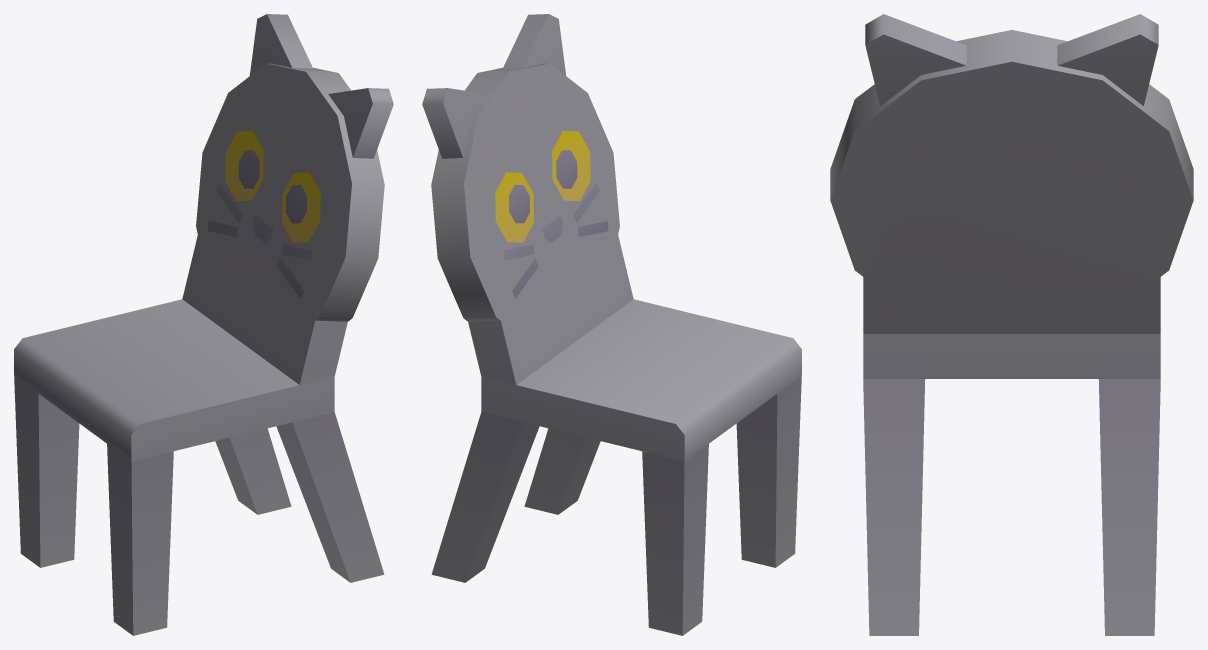
File: wooden-chair-cat.glb
3 views of the same model, side by side, from view 1: azimuth 30°, elevation 25°; view 2: azimuth 150°, elevation 25°; view 3: azimuth 270°, elevation 25° (orthographic). The views are drawn at different scales.
Visible parts, largest first — view 1: wooden-chair-cat; view 2: wooden-chair-cat; view 3: wooden-chair-cat.
Boxes of the visible parts, left/top/right/bottom form: wooden-chair-cat: left=14, top=14, right=393, bottom=635; wooden-chair-cat: left=422, top=14, right=801, bottom=635; wooden-chair-cat: left=830, top=14, right=1193, bottom=635.
Bounding box in the file's own units: 0.4712 × 0.8212 × 0.4392.
